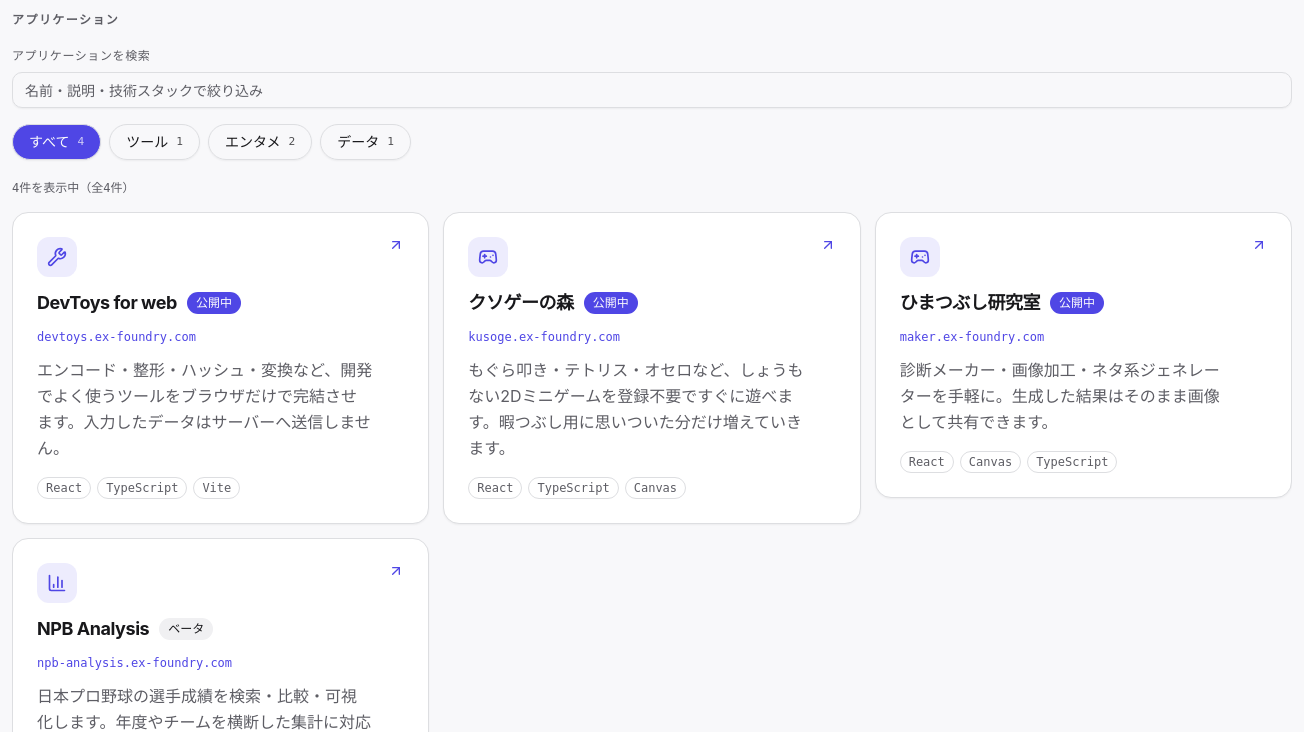
Test: ApplicationList › narrows the list when a category chip is selected
Step 1. Click the radio button labelled "データ 1" → [366, 142], box x1=320 y1=124 x2=411 y2=160
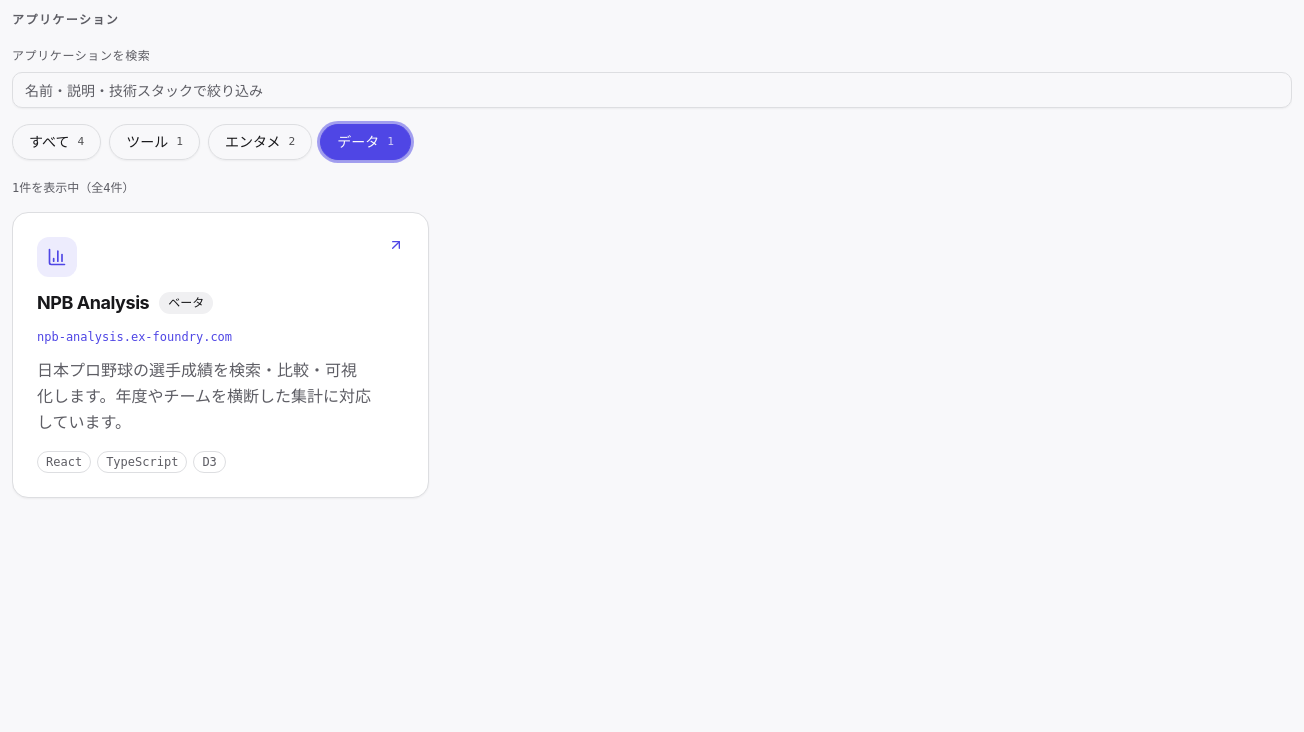
Expected: the link "NPB Analysis" is shown, x1=12 y1=212 x2=429 y2=498
Now the link "DevToys" is gone
